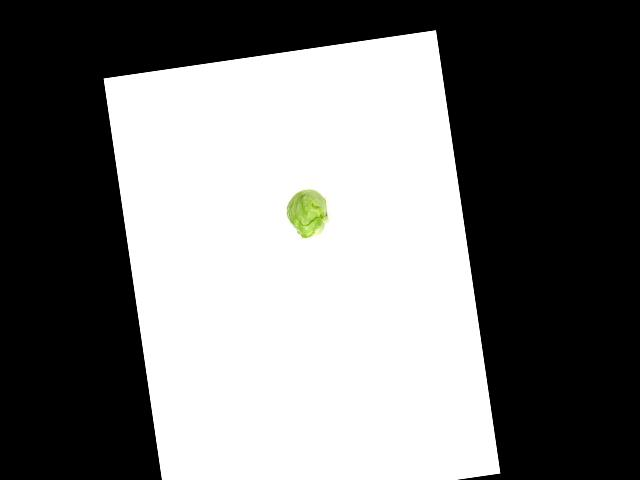lettuce: (279, 182, 331, 246)
